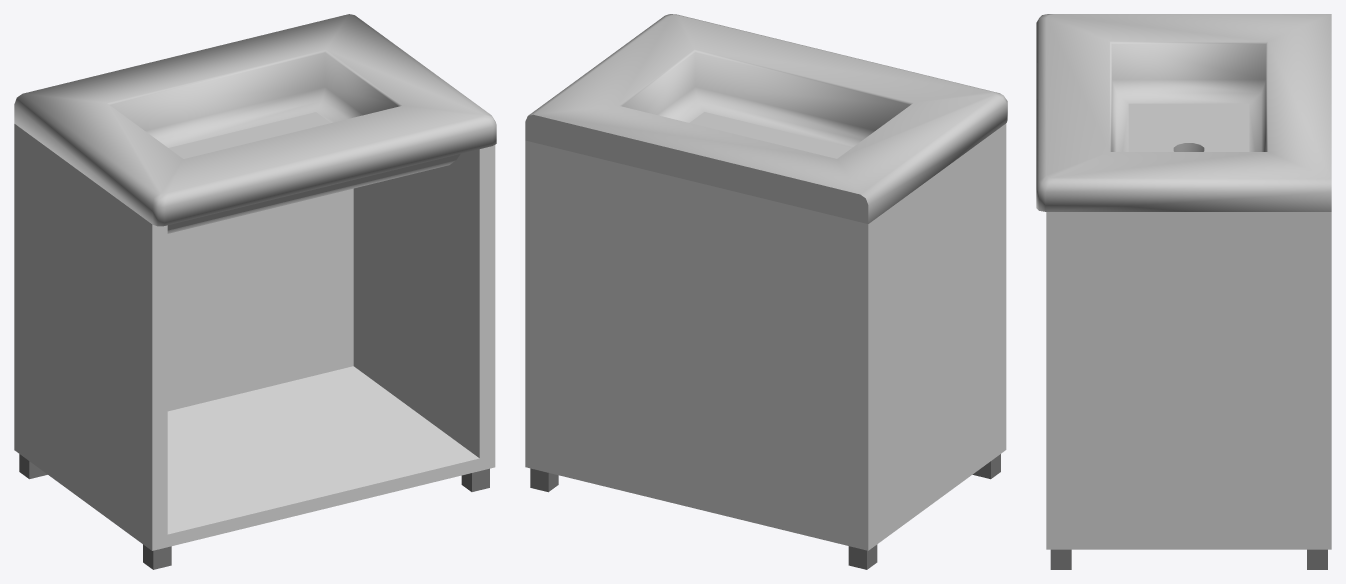
File: sink.glb
3 views of the same model, side by side, from view 1: azimuth 30°, elevation 25°; view 2: azimuth 150°, elevation 25°; view 3: azimuth 270°, elevation 25° (orthographic). The views are drawn at different scales.
Visible parts, largest first — view 1: Sink; view 2: Sink; view 3: Sink.
Boxes of the visible parts, x1=… form: Sink: x1=14, y1=14, x2=496, y2=569; Sink: x1=525, y1=14, x2=1007, y2=569; Sink: x1=1036, y1=14, x2=1331, y2=569.
Size of the model in its own units: 0.9072 by 0.949 by 0.6537.
Materials: 1 (1 with a texture image).
